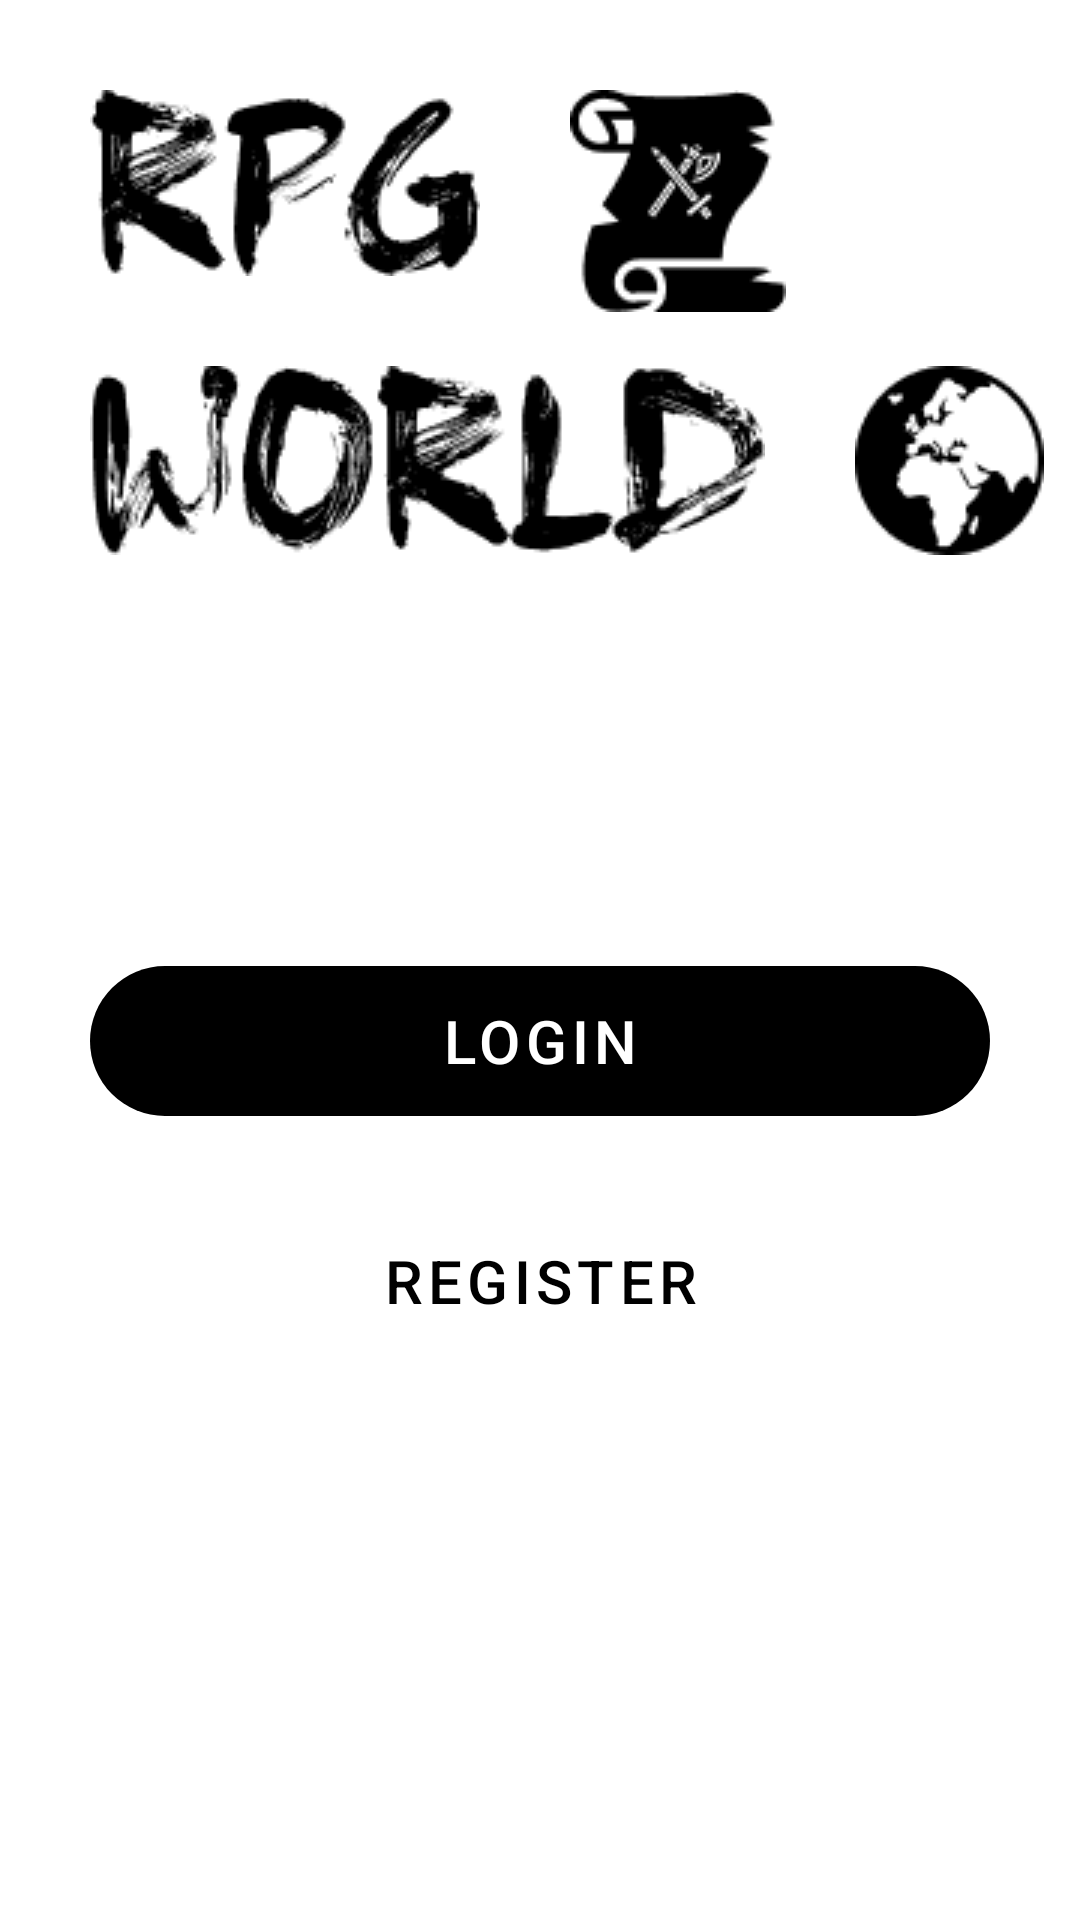

Icon click points for this 1080x1920 phone screenshot, format [x,y]:
globe: [949,460]
scroll: [678,201]
